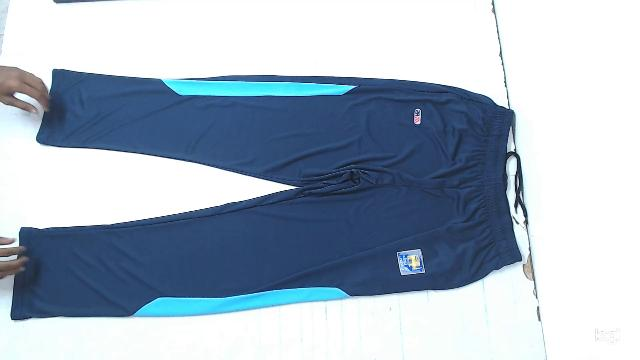new-garment: (11, 69, 521, 319)
